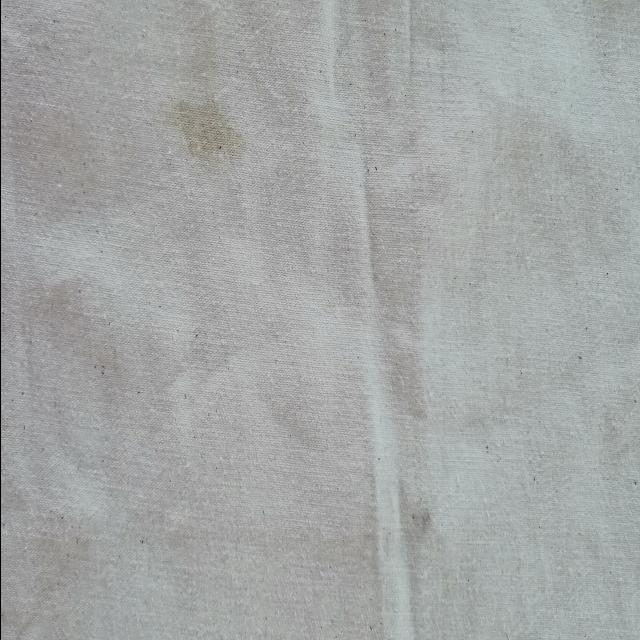taaaches: (158, 77, 243, 203), (383, 463, 441, 585)
